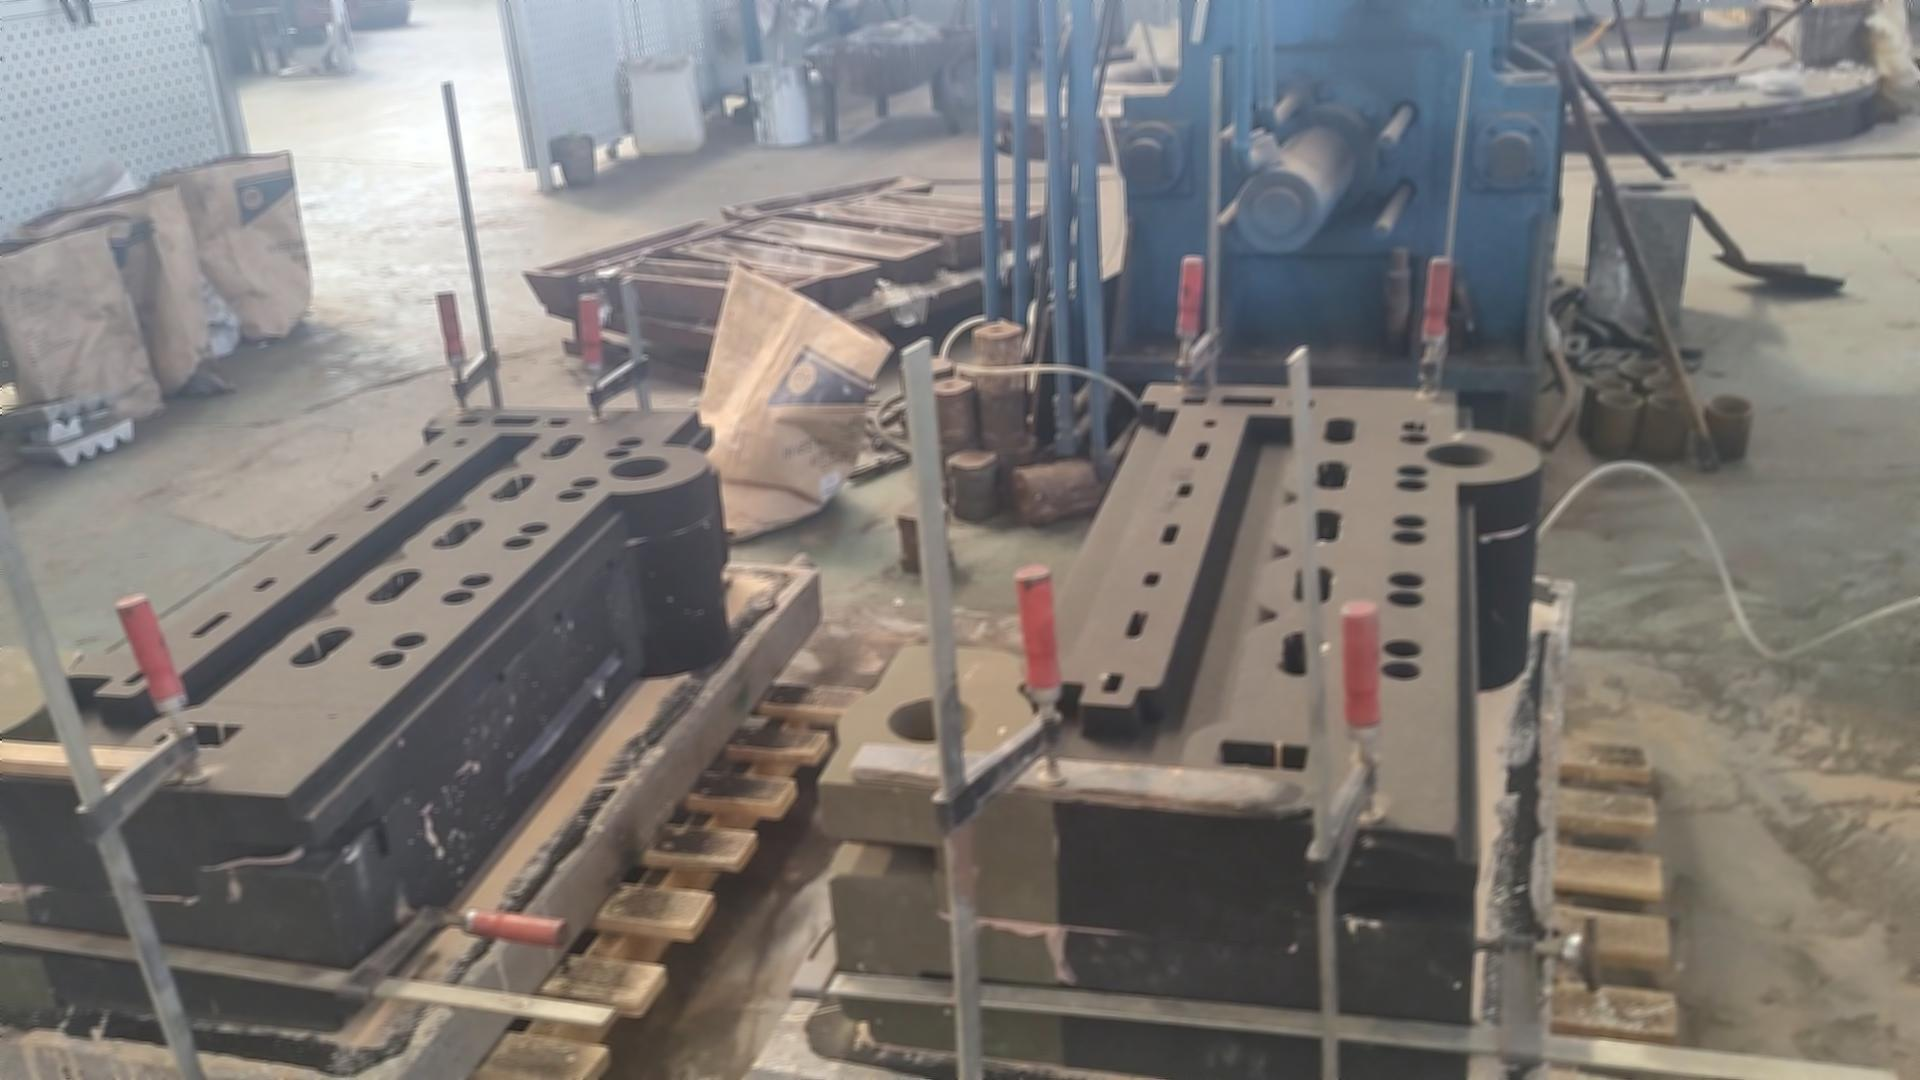pouring hole: (887, 698, 977, 744), (1425, 442, 1494, 467), (609, 456, 673, 480), (1704, 393, 1754, 414), (1596, 388, 1643, 407), (1643, 375, 1691, 390), (1623, 361, 1664, 378), (1648, 392, 1689, 409), (1589, 376, 1630, 392)
